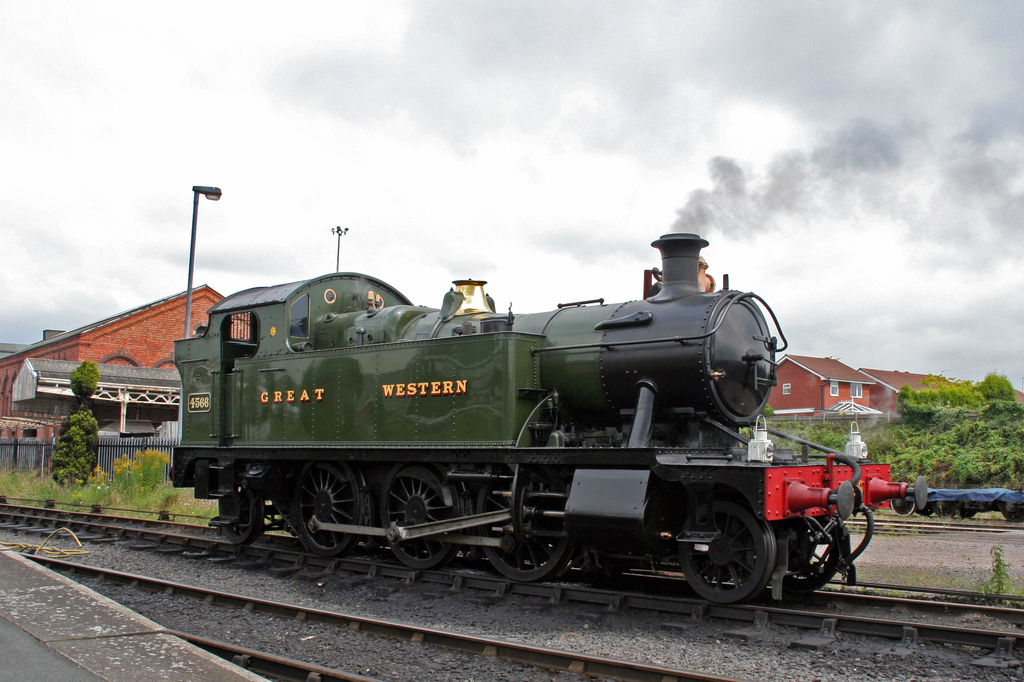train: (167, 230, 933, 605)
